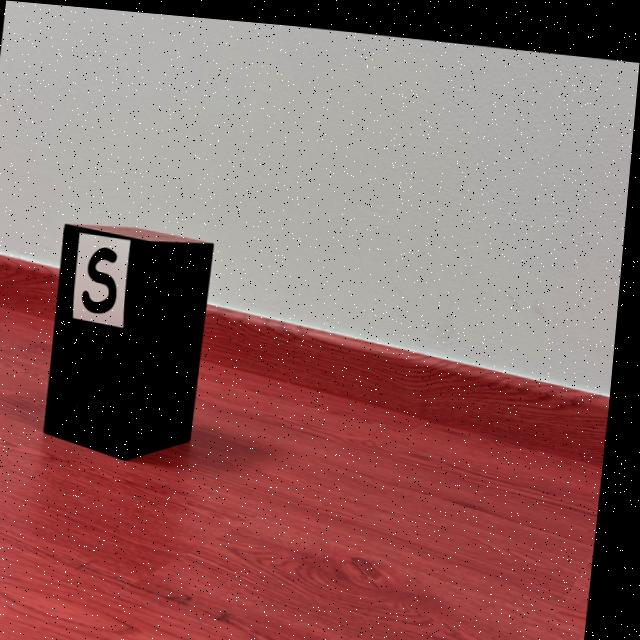S: (87, 245, 122, 311)
